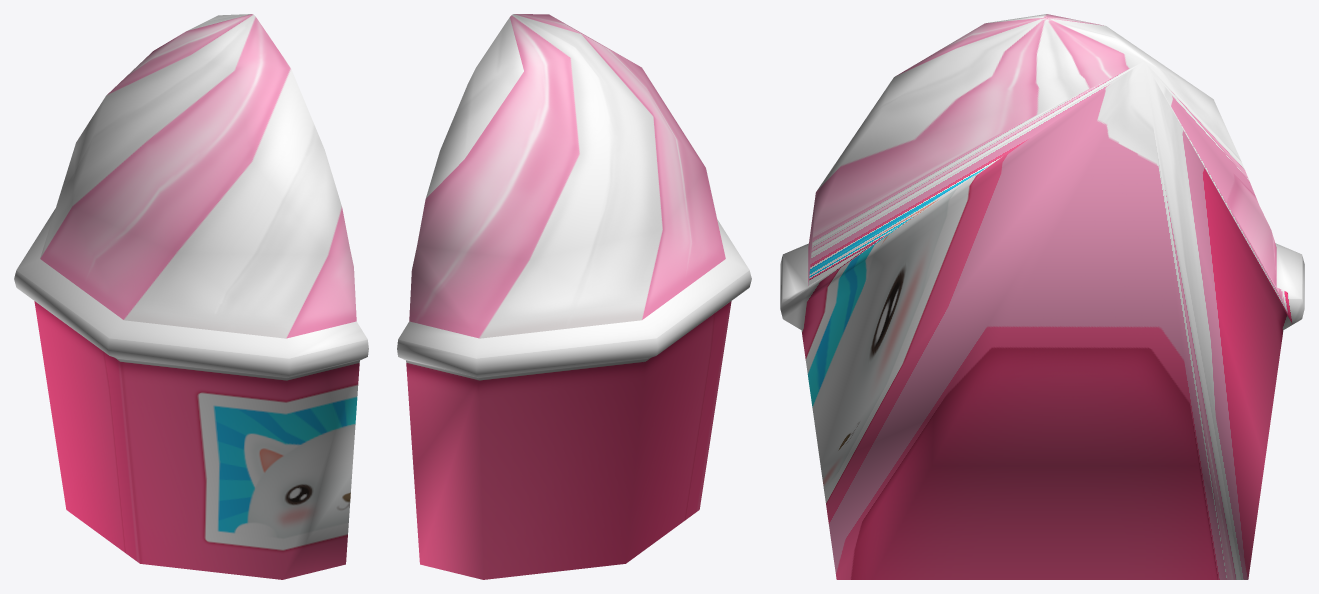
Rendered from iceCream01.fbx.
3 views of the same model, side by side, from view 1: azimuth 30°, elevation 25°; view 2: azimuth 150°, elevation 25°; view 3: azimuth 270°, elevation 25° (orthographic). The views are drawn at different scales.
Visible parts, largest first — view 1: IceCream; view 2: IceCream; view 3: IceCream.
Part boxes in pixels (x1=…): IceCream: x1=14, y1=14, x2=368, y2=579; IceCream: x1=397, y1=14, x2=751, y2=579; IceCream: x1=780, y1=14, x2=1304, y2=579.
Bounding box in the file's own units: 10.03 × 23.73 × 20.1.
